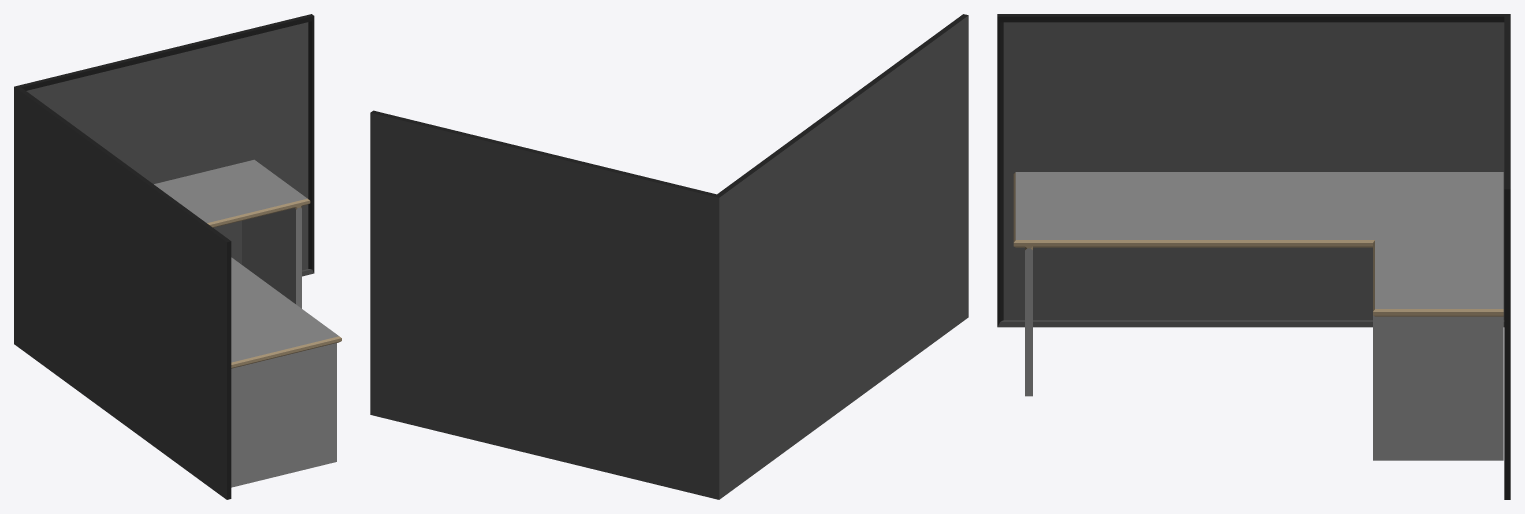
The model's file is Cubicle.fbx.
The picture shows the model from 3 angles, left to right: view 1: azimuth 30°, elevation 25°; view 2: azimuth 150°, elevation 25°; view 3: azimuth 270°, elevation 25°; orthographic projection. The views are drawn at different scales.
Parts seen in each view (by area): view 1: Plane.004; view 2: Plane.004; view 3: Plane.004.
Boxes of the visible parts, x1,y1,x2,y2 form: Plane.004: (14, 14, 341, 499); Plane.004: (370, 14, 968, 499); Plane.004: (997, 14, 1510, 499).
Bounding box in the file's own units: 254 × 210 × 314.
